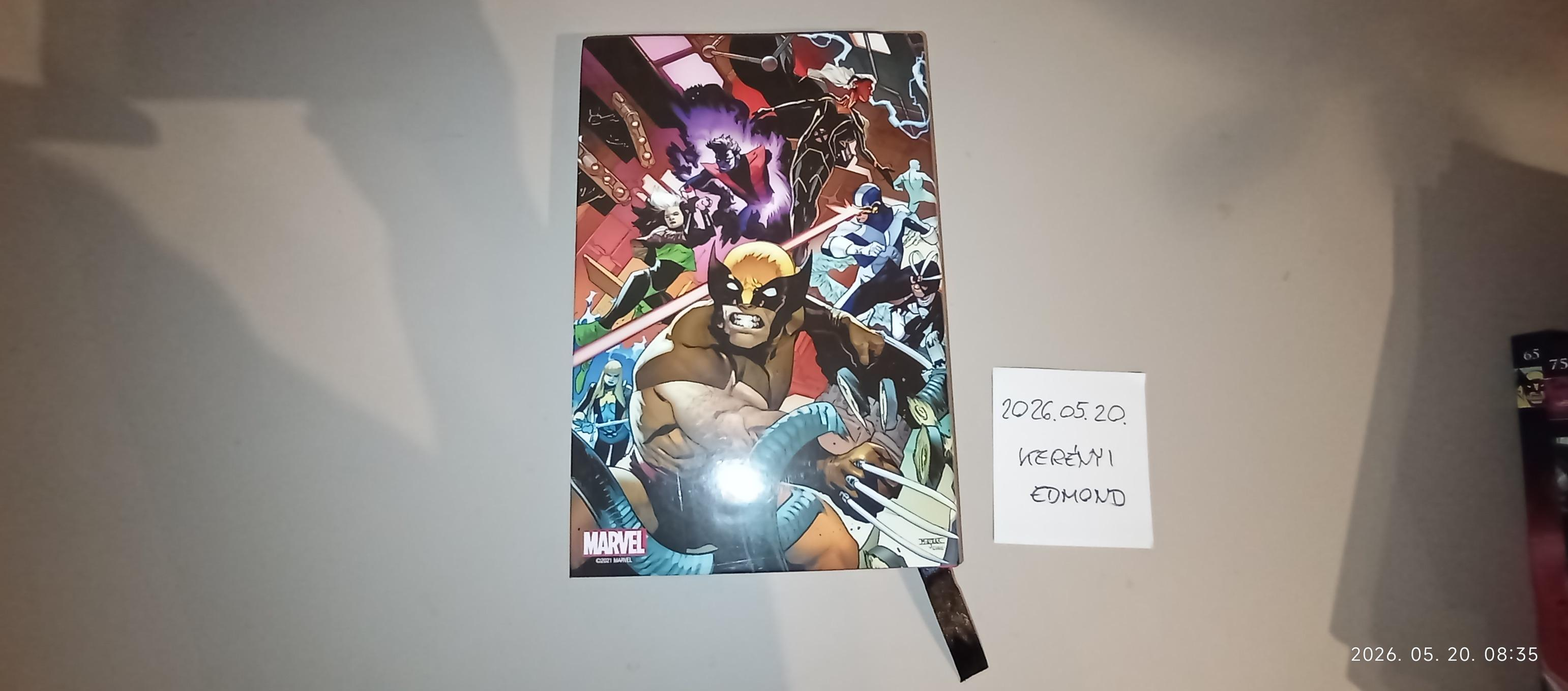comic: (559, 28, 960, 576)
